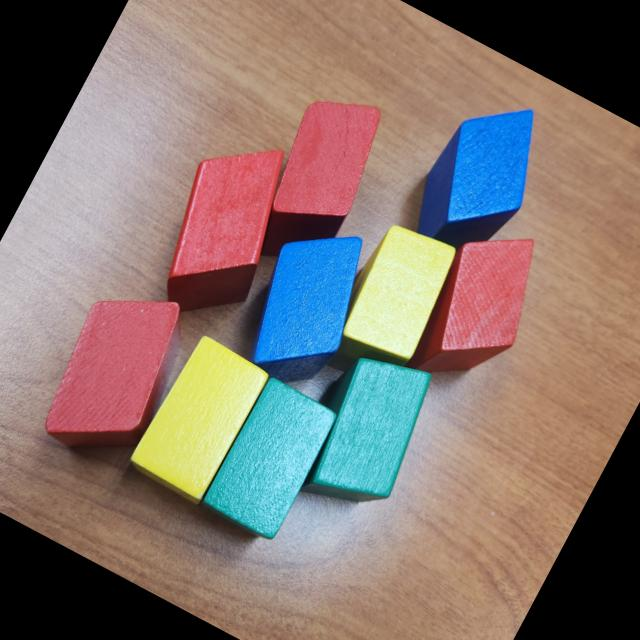blue: (400, 80, 564, 270), (226, 206, 388, 394)
green: (282, 336, 450, 531), (198, 373, 344, 548)
red: (132, 119, 316, 337), (27, 266, 206, 476), (235, 78, 399, 284), (397, 210, 560, 406)
yellow: (312, 214, 468, 401), (127, 330, 272, 503)
